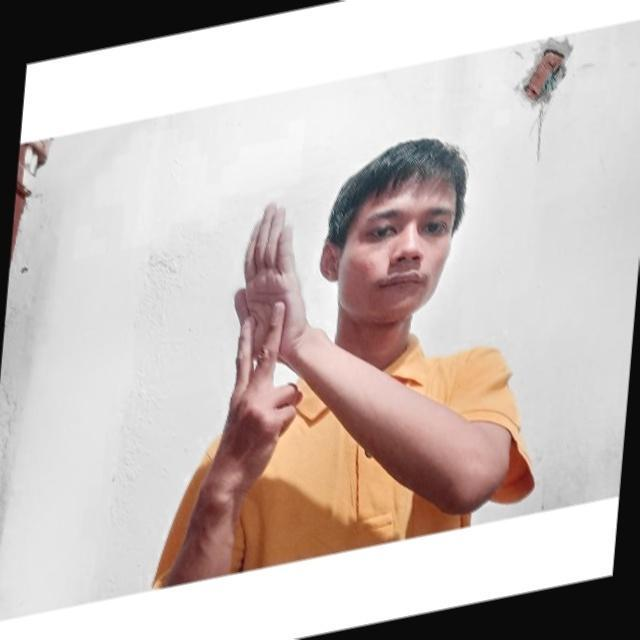N: (214, 184, 316, 400)
